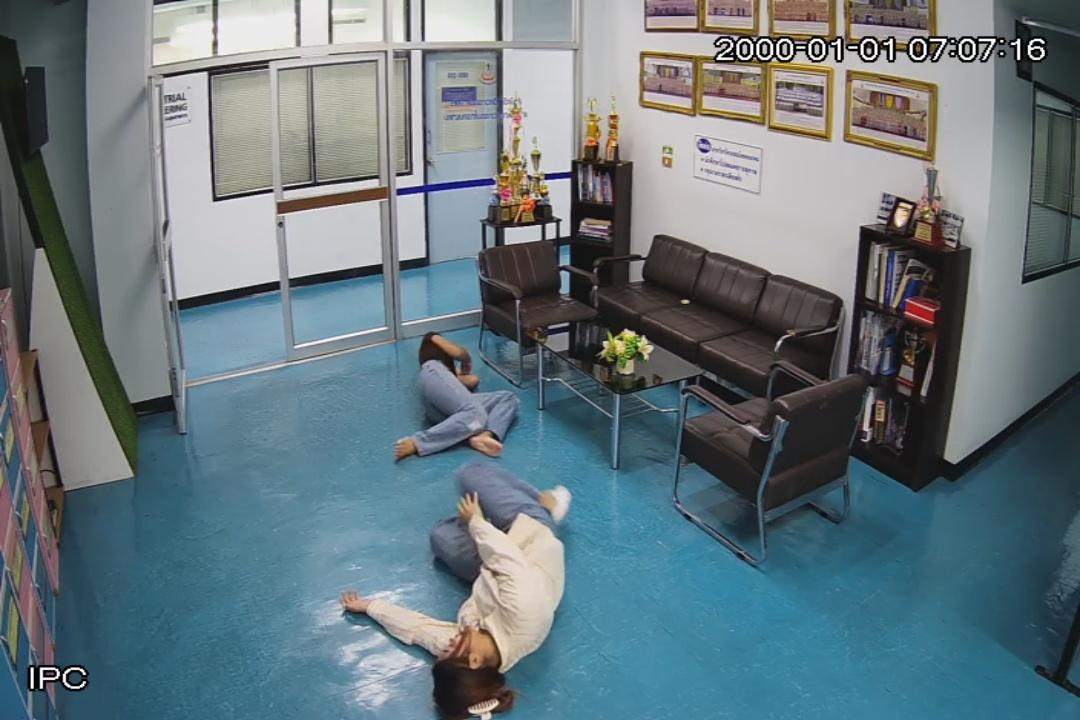fall: (344, 459, 567, 720), (397, 334, 519, 456)
